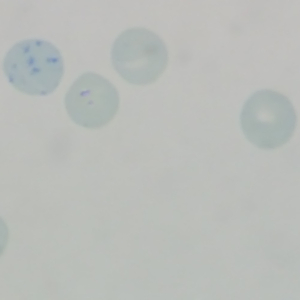aggregate reticulocyte: (1, 36, 67, 97)
erythrocyte: (238, 88, 299, 152), (109, 26, 168, 88), (62, 70, 121, 132)
